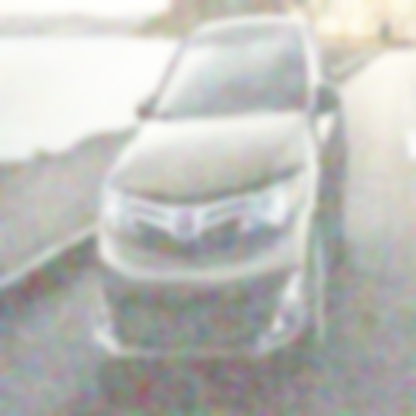Vehicle: (91, 10, 353, 379)
